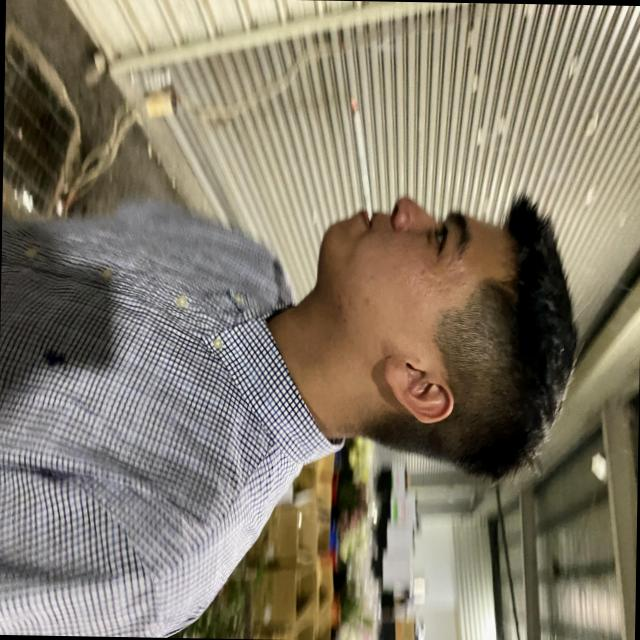smoke: (324, 79, 385, 236)
